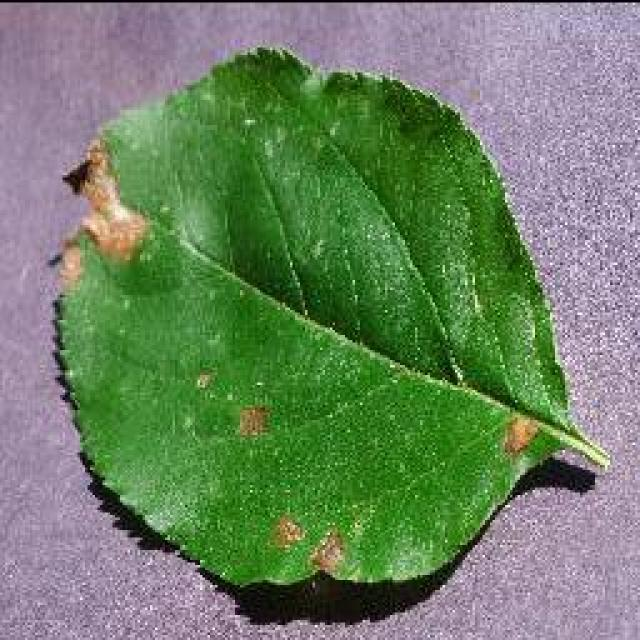apple scab disease: (48, 42, 608, 622)
